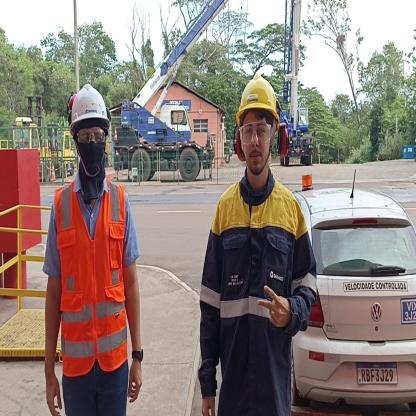Balaclava: (75, 124, 107, 190)
C_eletrica: (201, 180, 319, 416)
Capacete: (236, 69, 284, 111), (67, 82, 111, 123)
colete: (60, 188, 130, 371)
